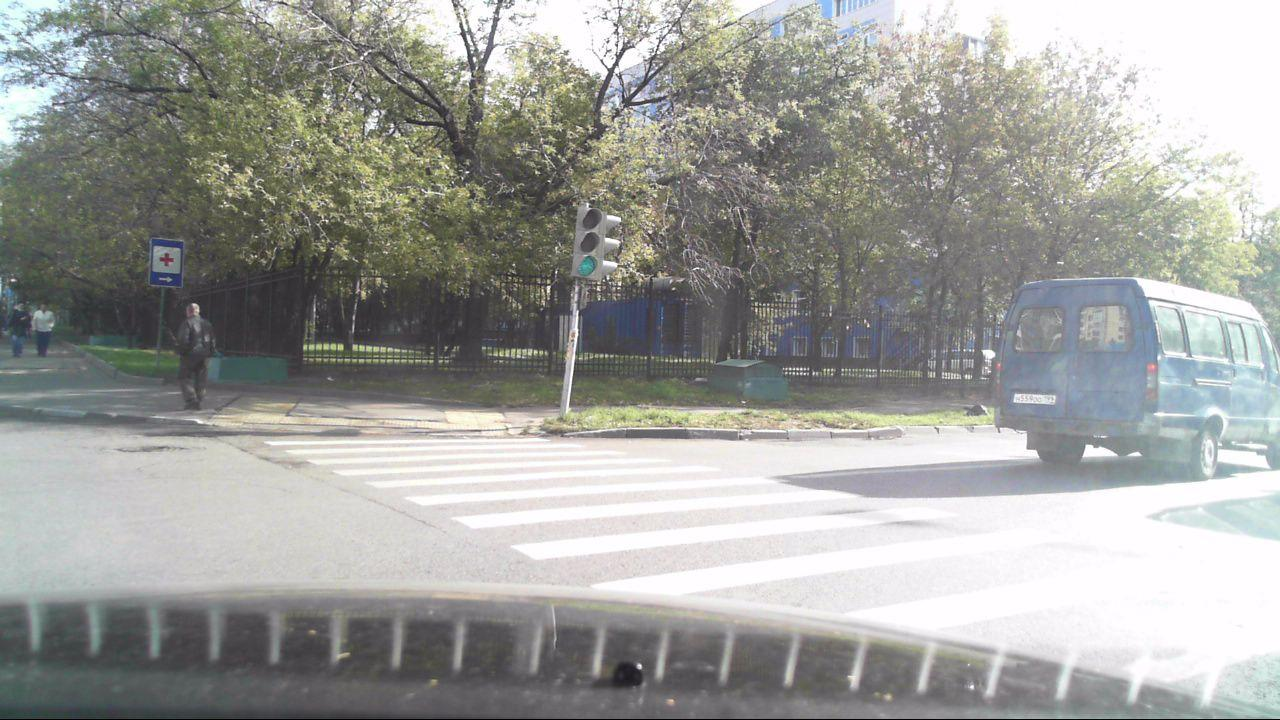7_1: (147, 236, 182, 289)
